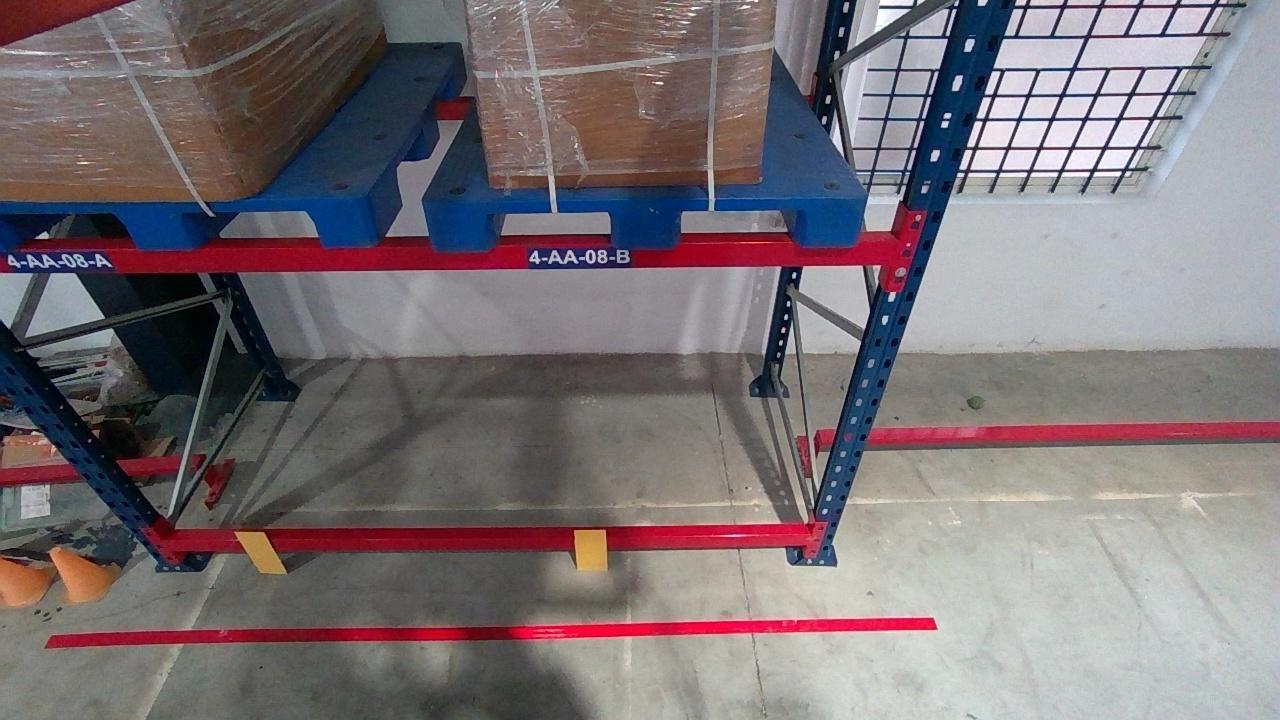h_rack: (3, 237, 904, 270), (162, 533, 811, 553)
orange_strip: (233, 531, 288, 573), (573, 529, 607, 570)
red_line: (39, 616, 938, 643)
small_pallet: (427, 195, 864, 245), (1, 198, 378, 249)
